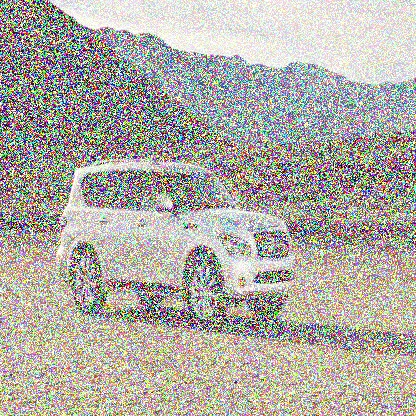Vehicle: (55, 156, 297, 334)
